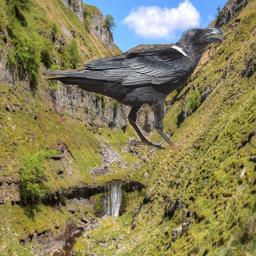Crow: (38, 24, 225, 150)
